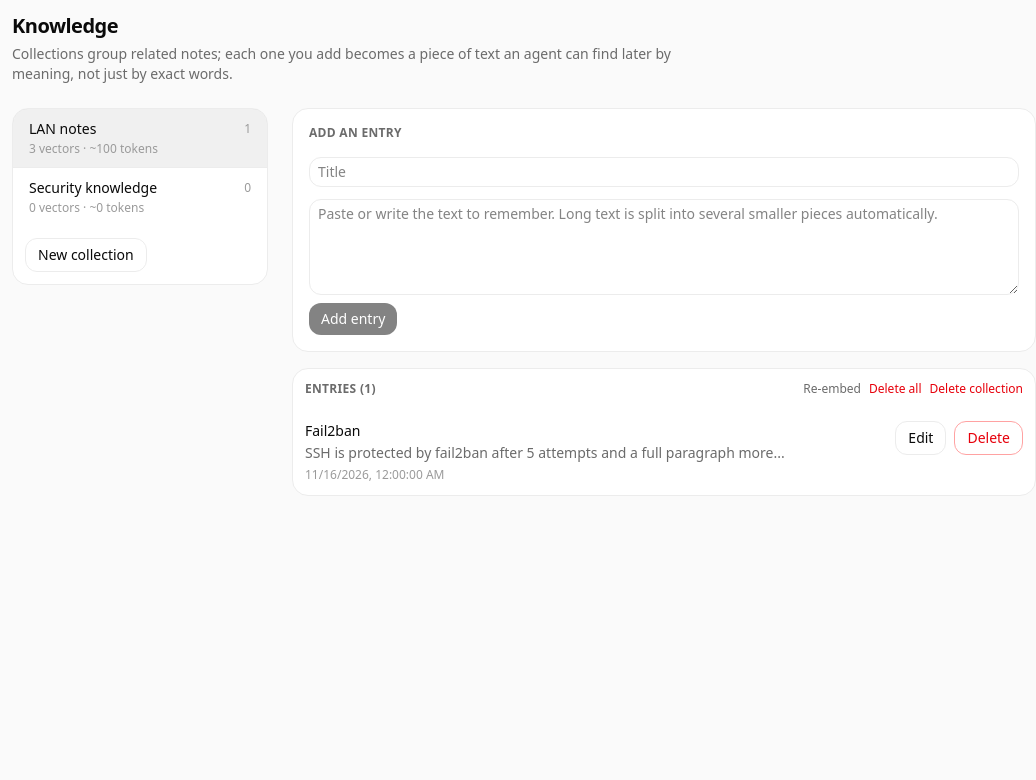
KnowledgeBrowsePage › shows an error instead of silently doing nothing when loading example entries fails
Click the text "Security knowledge" at (93, 188), box [29,178,157,198]
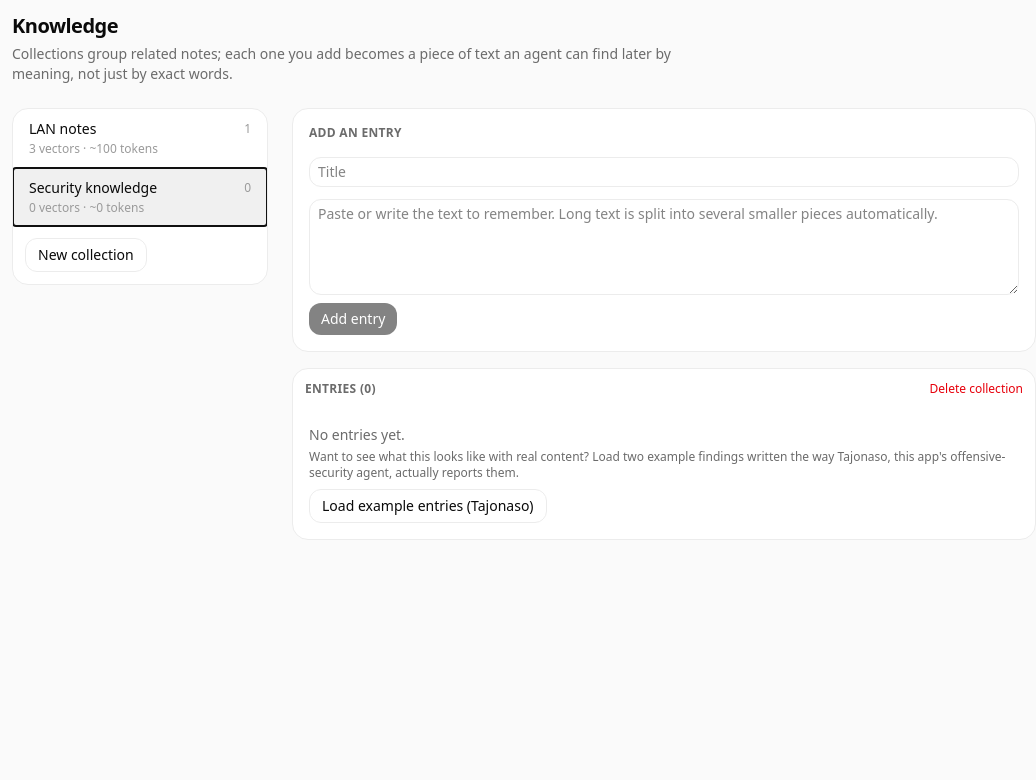
Click the button "Load example entries (Tajonaso)" at (428, 506), box [309,489,547,523]
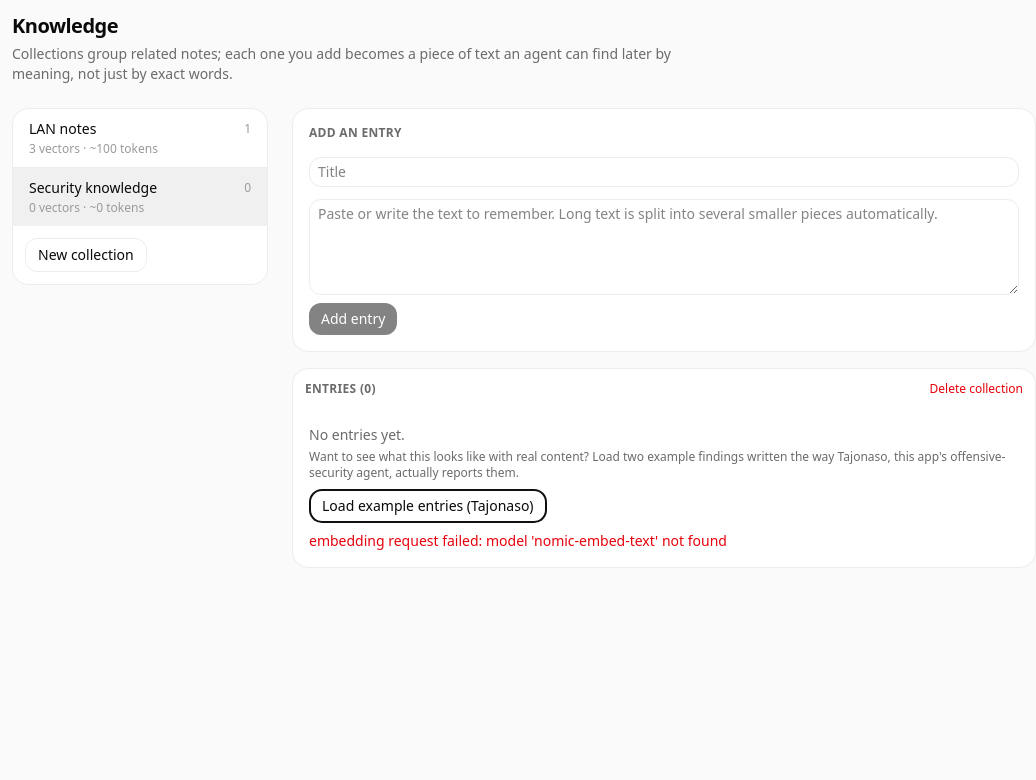
Expected: the text "embedding request failed: model 'nomic-embed-text' not found" is shown, [309,531,727,550]
